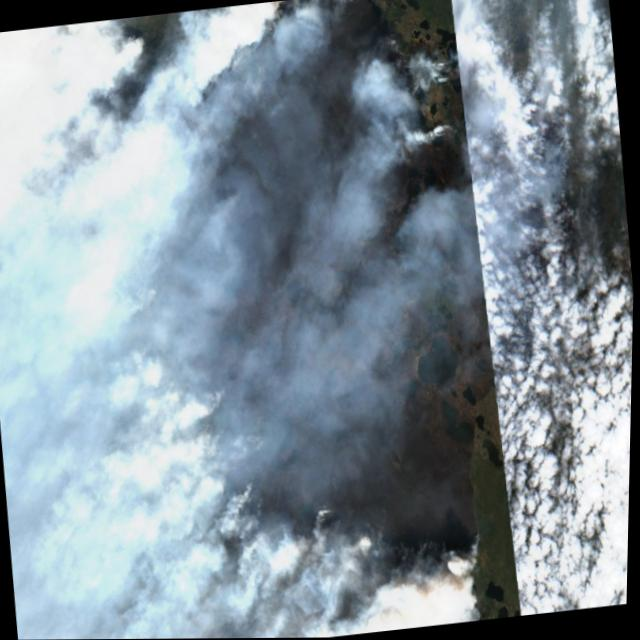fire: (132, 347, 505, 639), (92, 0, 466, 190)
